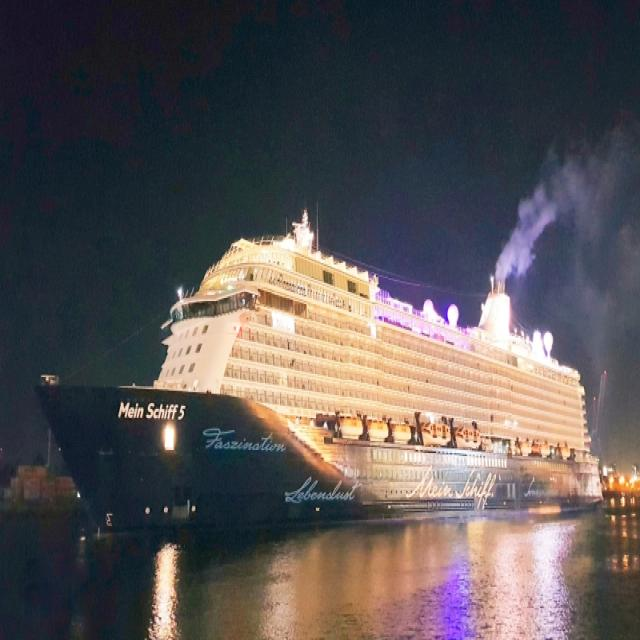cruises: (34, 197, 609, 532)
